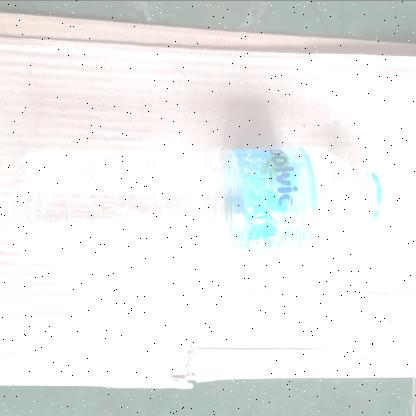Plastic Bottle: (10, 148, 390, 256)
